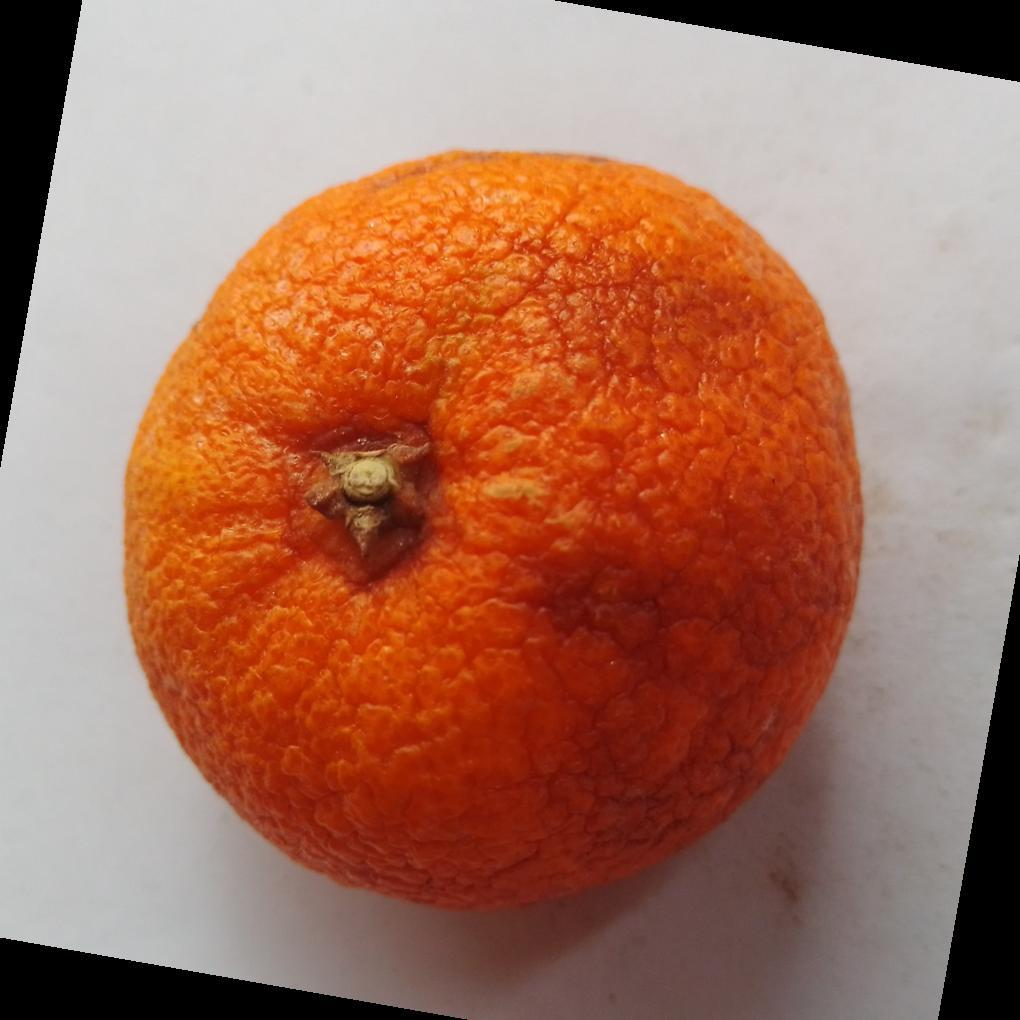FreshOrange: (120, 150, 866, 918)
